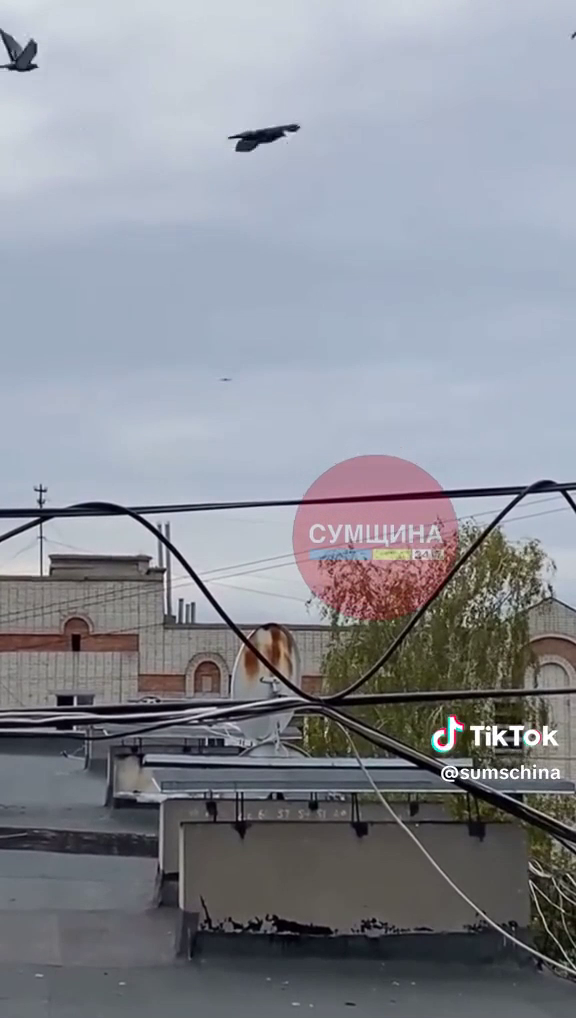not_drone: (218, 110, 312, 168), (0, 18, 64, 84)
